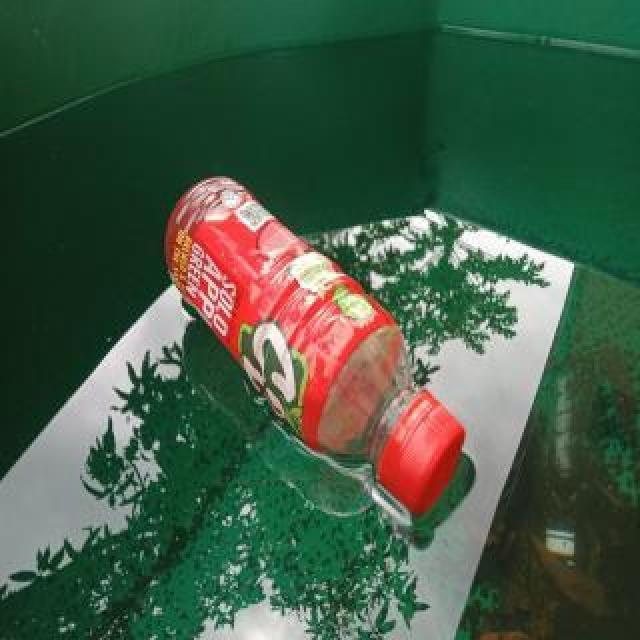bottle: (162, 171, 470, 521)
